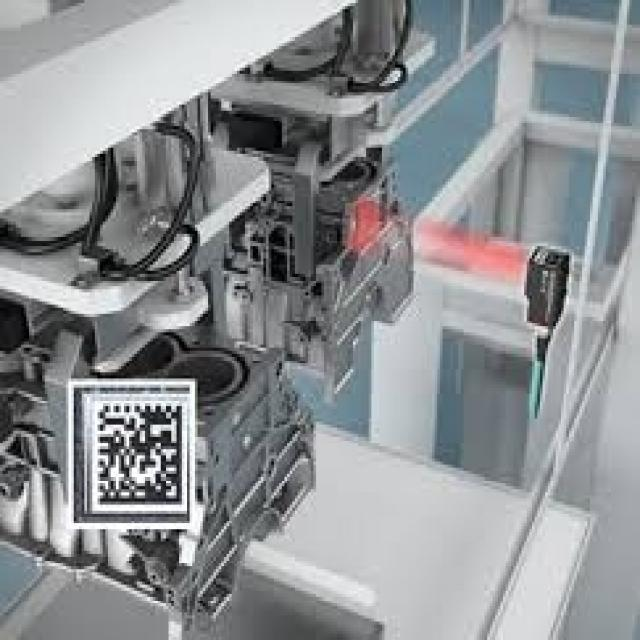Data-Matrix: (87, 397, 187, 514)
